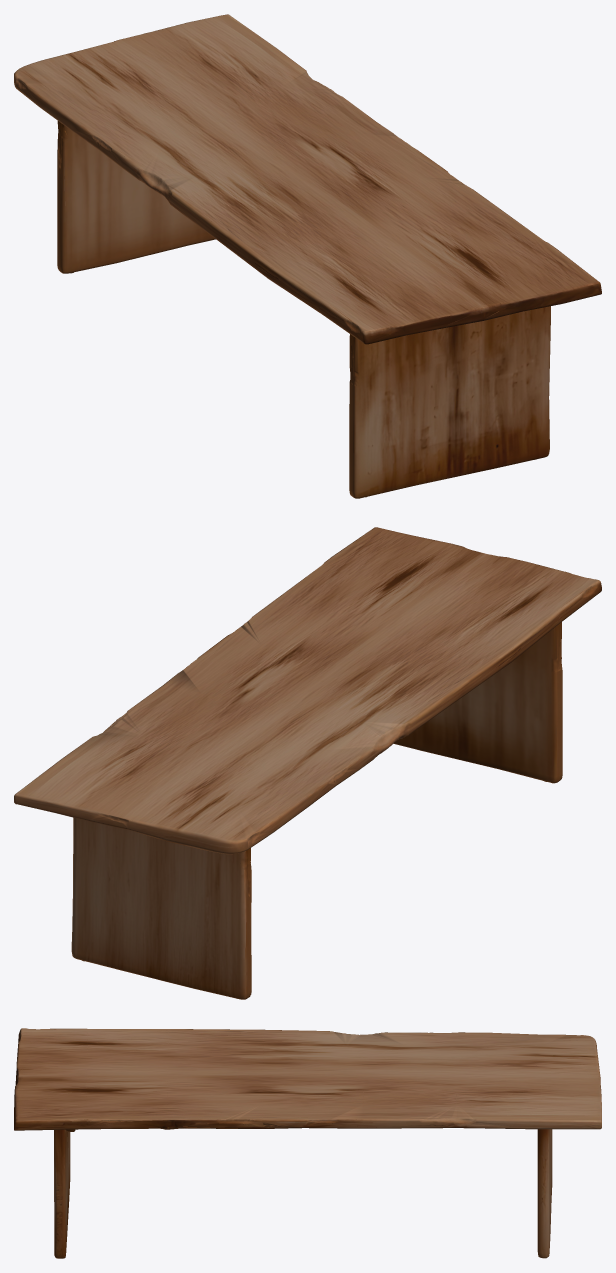
Rendered from reel-desk.glb.
3 renders of one model, top to bottom at view 1: azimuth 30°, elevation 25°; view 2: azimuth 150°, elevation 25°; view 3: azimuth 270°, elevation 25°, orthographic. The views are drawn at different scales.
Parts seen in each view (by area): view 1: tripo_node_45594210-7b72-4790-b48b-1ec0a7f4fd6e; view 2: tripo_node_45594210-7b72-4790-b48b-1ec0a7f4fd6e; view 3: tripo_node_45594210-7b72-4790-b48b-1ec0a7f4fd6e.
Boxes of the visible parts, left/top/right/bottom form: tripo_node_45594210-7b72-4790-b48b-1ec0a7f4fd6e: left=14, top=14, right=601, bottom=498; tripo_node_45594210-7b72-4790-b48b-1ec0a7f4fd6e: left=14, top=527, right=601, bottom=999; tripo_node_45594210-7b72-4790-b48b-1ec0a7f4fd6e: left=14, top=1028, right=601, bottom=1258.
Size of the model in its own units: 0.3677 by 0.2856 by 0.9995.
Materials: 1 (1 with a texture image).
